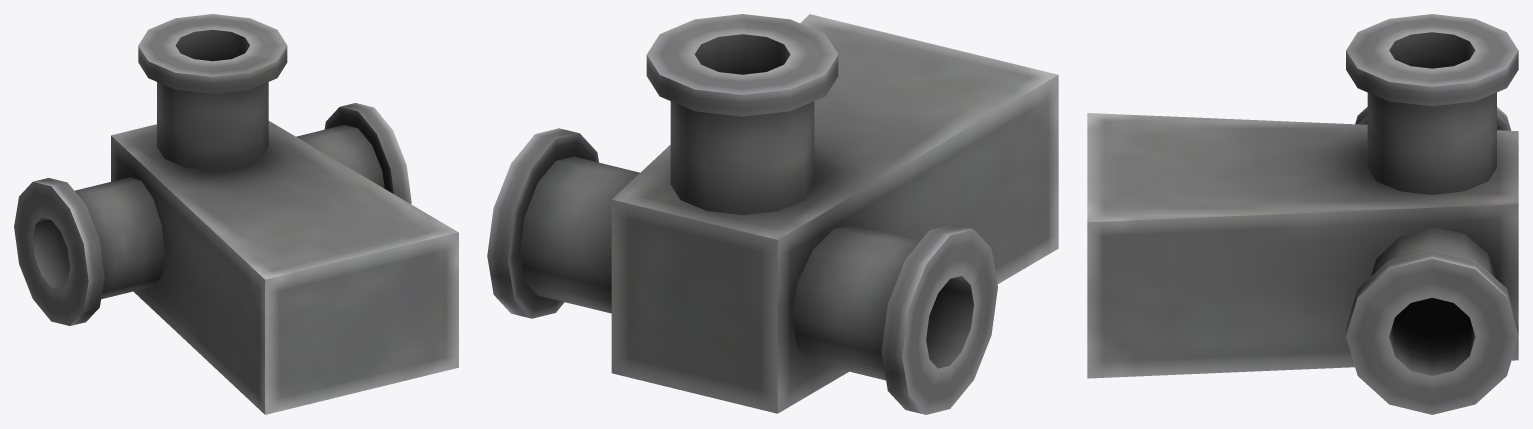
File: sp_rcs_srf_3.obj
3 views of the same model, side by side, from view 1: azimuth 30°, elevation 25°; view 2: azimuth 150°, elevation 25°; view 3: azimuth 270°, elevation 25° (orthographic). The views are drawn at different scales.
Visible parts, largest first — view 1: mesh1; view 2: mesh1; view 3: mesh1.
Boxes of the visible parts, bbox=[...] form: mesh1: bbox=[14, 14, 458, 414]; mesh1: bbox=[487, 14, 1058, 414]; mesh1: bbox=[1087, 14, 1518, 414].
Bounding box in the file's own units: 0.125 × 0.0875 × 0.125.
1 material, 1 textured.
